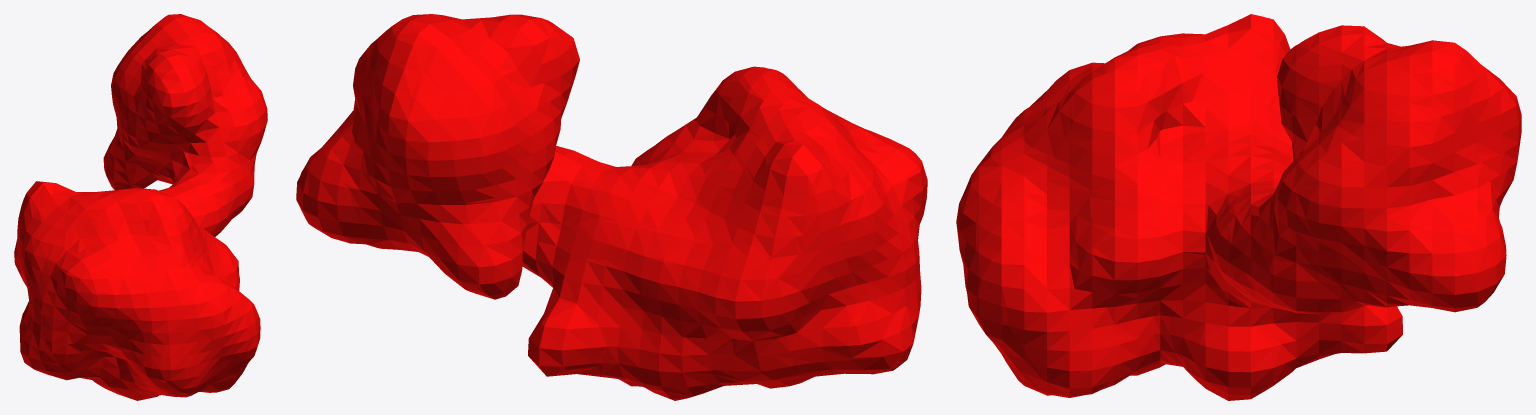
File: mhpR_coarse.dae
3 views of the same model, side by side, from view 1: azimuth 30°, elevation 25°; view 2: azimuth 150°, elevation 25°; view 3: azimuth 270°, elevation 25° (orthographic). The views are drawn at different scales.
Visible parts, largest first — view 1: mhpR; view 2: mhpR; view 3: mhpR.
Boxes of the visible parts, left/top/right/bottom form: mhpR: left=14, top=14, right=267, bottom=400; mhpR: left=296, top=14, right=927, bottom=400; mhpR: left=956, top=14, right=1521, bottom=400.
Bounding box in the file's own units: 64.96 × 54.62 × 64.85.
